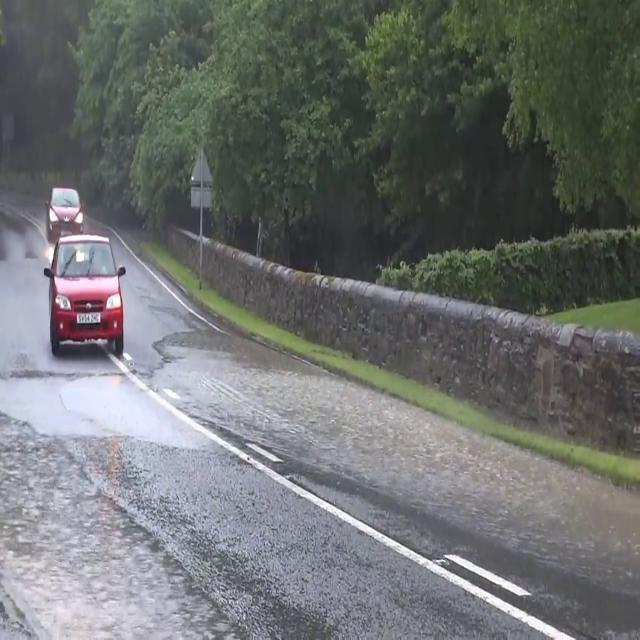license-plate-annotation: (72, 308, 106, 328)
